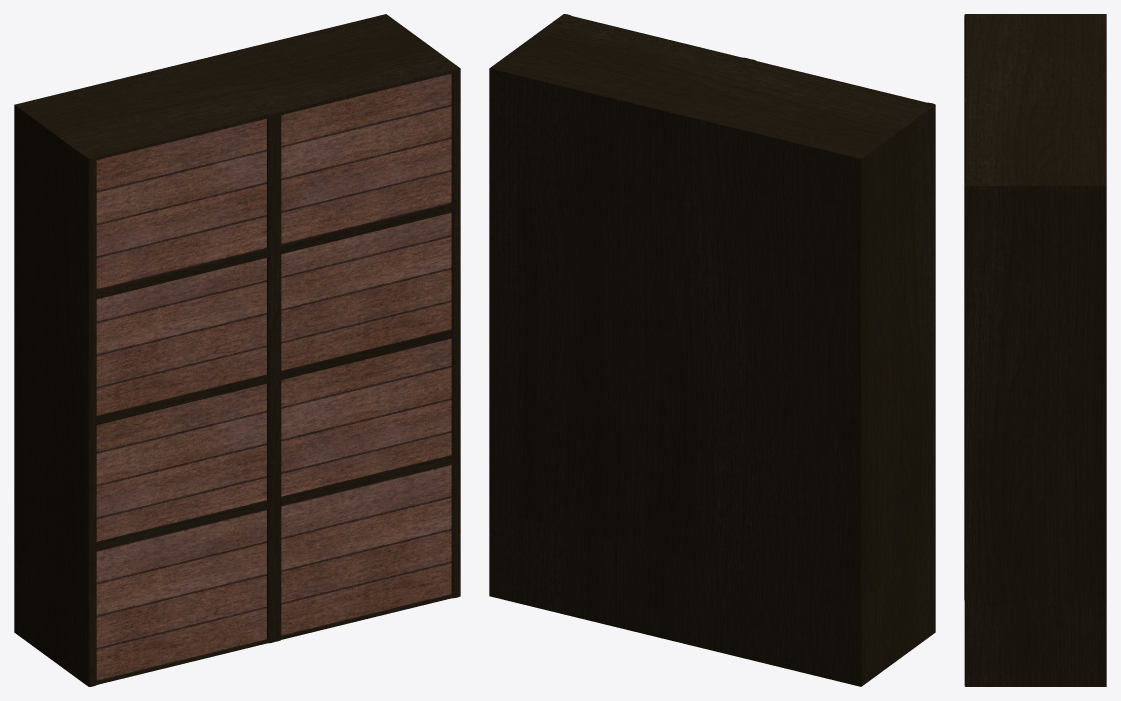
The model's file is A23DMOD_FBX.fbx.
The picture shows the model from 3 angles, left to right: view 1: azimuth 30°, elevation 25°; view 2: azimuth 150°, elevation 25°; view 3: azimuth 270°, elevation 25°; orthographic projection. The views are drawn at different scales.
Visible parts, largest first — view 1: A23D; view 2: A23D; view 3: A23D.
Part boxes in pixels (x1=…): A23D: x1=14, y1=14, x2=460, y2=686; A23D: x1=489, y1=14, x2=935, y2=686; A23D: x1=964, y1=14, x2=1106, y2=686.
Size of the model in its own units: 156 by 212 by 54.52.
2 materials, 2 textured.
